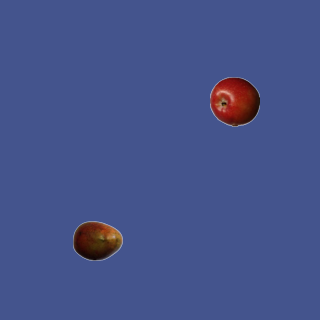Apple Braeburn: (209, 76, 259, 126)
Mango Red: (72, 215, 122, 265)
